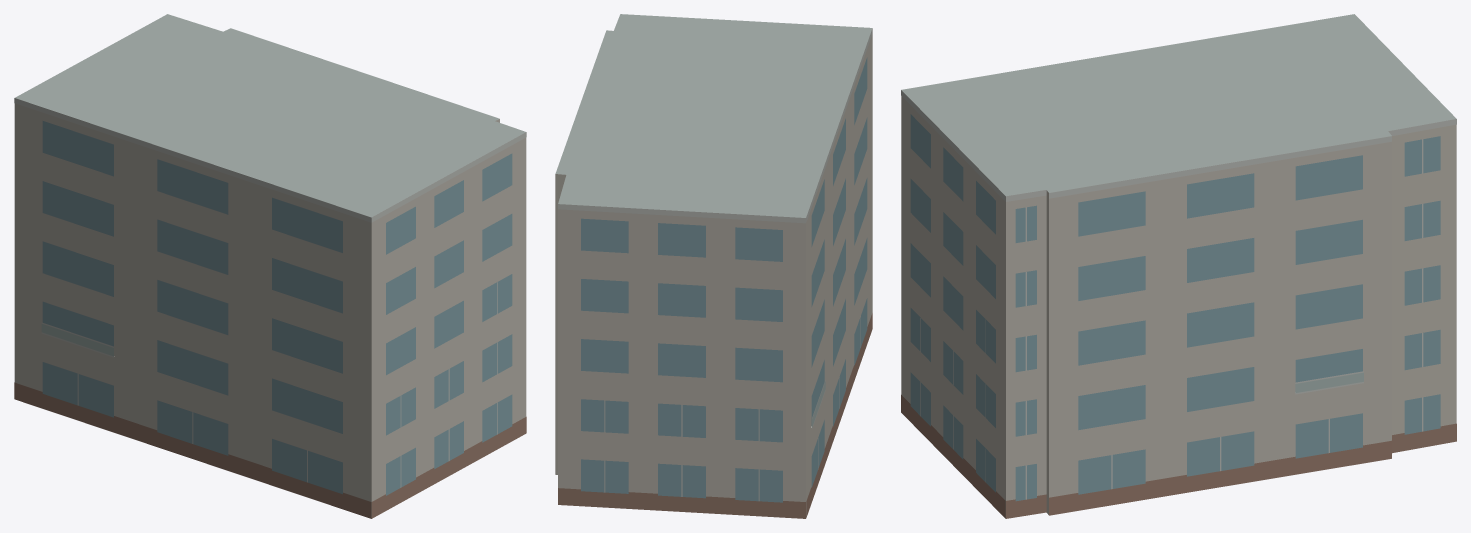
The model's file is survey-upis-32747306.glb.
3 views of the same model, side by side, from view 1: azimuth 30°, elevation 25°; view 2: azimuth 150°, elevation 25°; view 3: azimuth 270°, elevation 25° (orthographic). The views are drawn at different scales.
Visible parts, largest first — view 1: survey-upis-32747306.tmp; view 2: survey-upis-32747306.tmp; view 3: survey-upis-32747306.tmp.
Boxes of the visible parts, x1=… form: survey-upis-32747306.tmp: x1=14, y1=14, x2=526, y2=518; survey-upis-32747306.tmp: x1=555, y1=14, x2=872, y2=518; survey-upis-32747306.tmp: x1=901, y1=14, x2=1456, y2=518.
Size of the model in its own units: 16.85 by 13.9 by 21.71.
